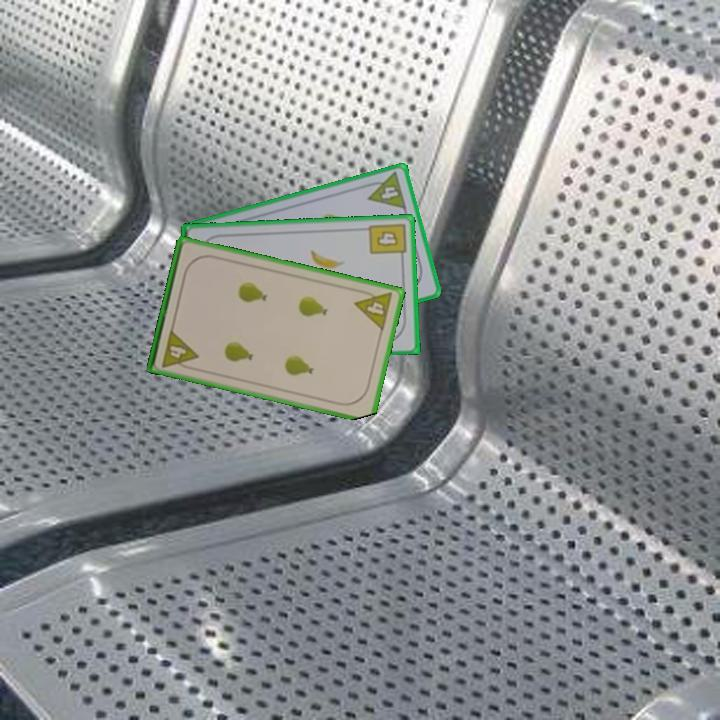4b: (365, 219, 408, 263)
4p: (351, 285, 395, 333), (361, 169, 409, 212), (158, 326, 201, 373)
